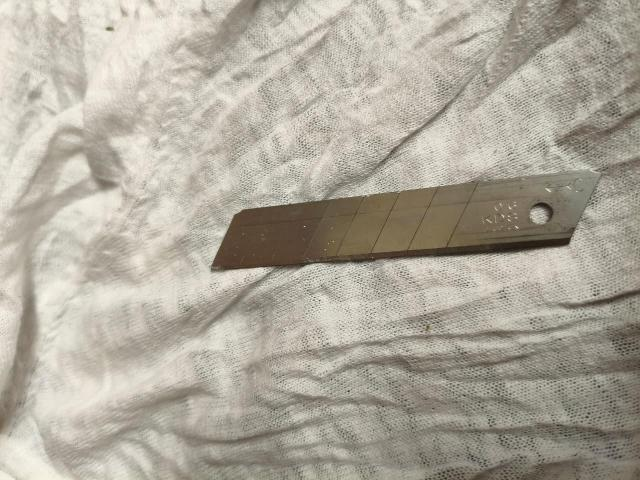Metal: (205, 170, 605, 273)
